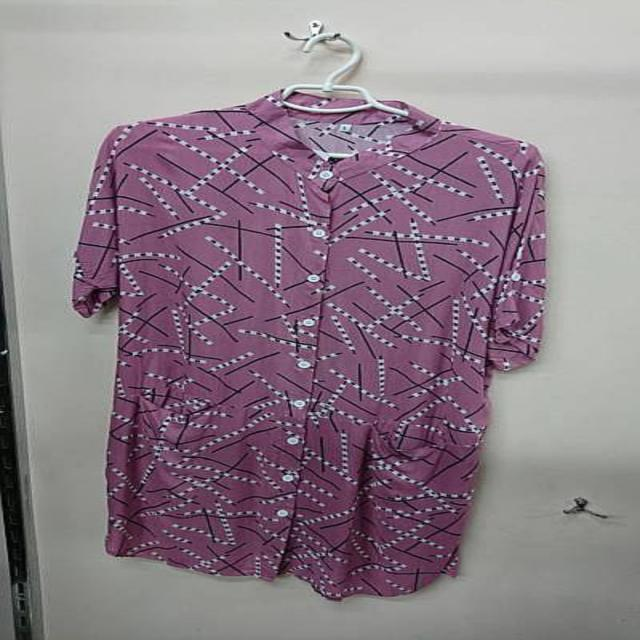SHIRT: (59, 80, 559, 602)
